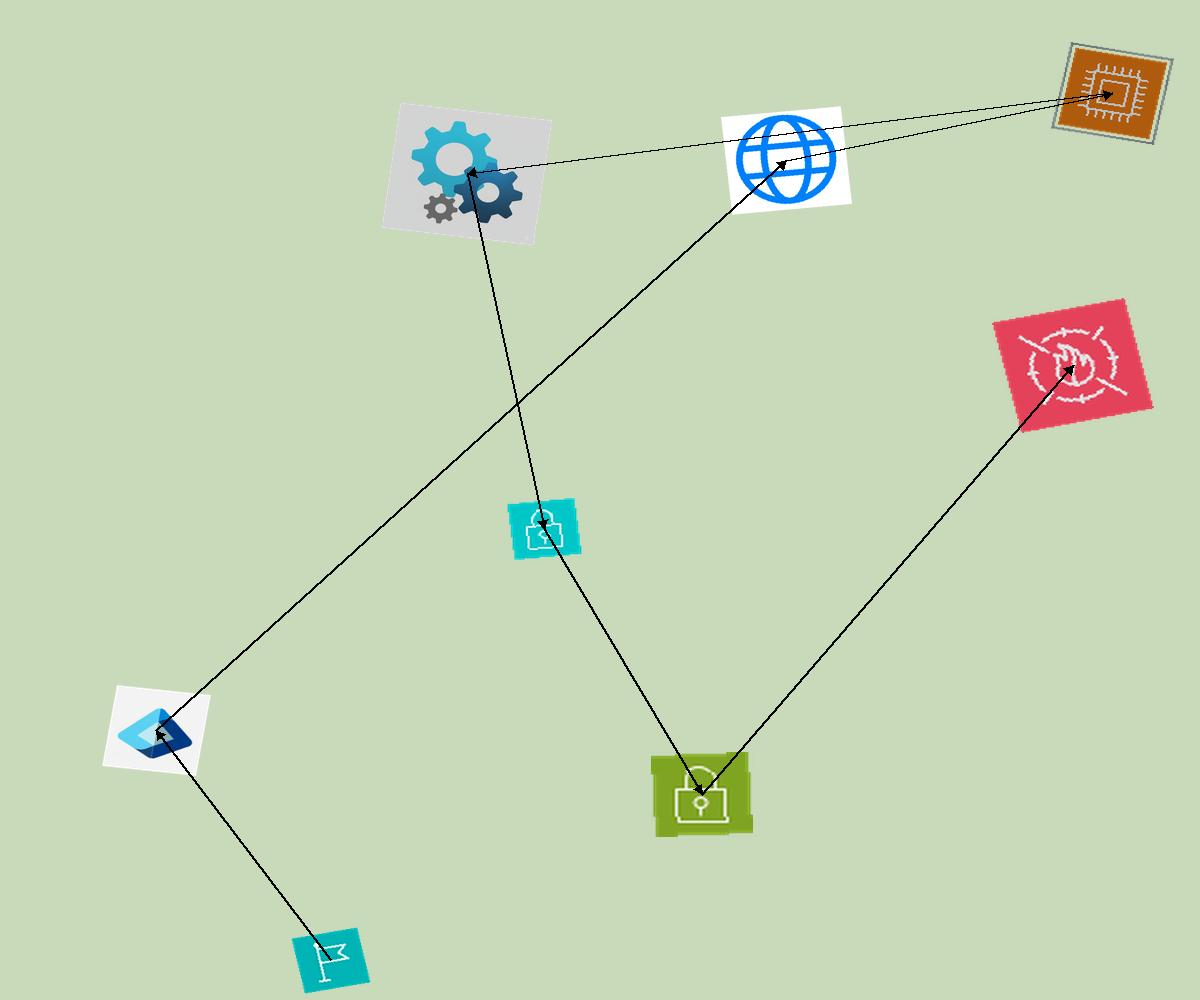AWS-Category_Compute: (1051, 42, 1174, 145)
AWS-Private-subnet: (506, 497, 583, 561)
AWS-Public-subnet: (651, 752, 753, 837)
AWS-Region: (291, 927, 371, 994)
AWS-WAF: (992, 298, 1154, 433)
Azure_api: (381, 102, 553, 246)
Azure_http: (721, 106, 852, 215)
Azure_microsoft_entra: (102, 685, 211, 776)
